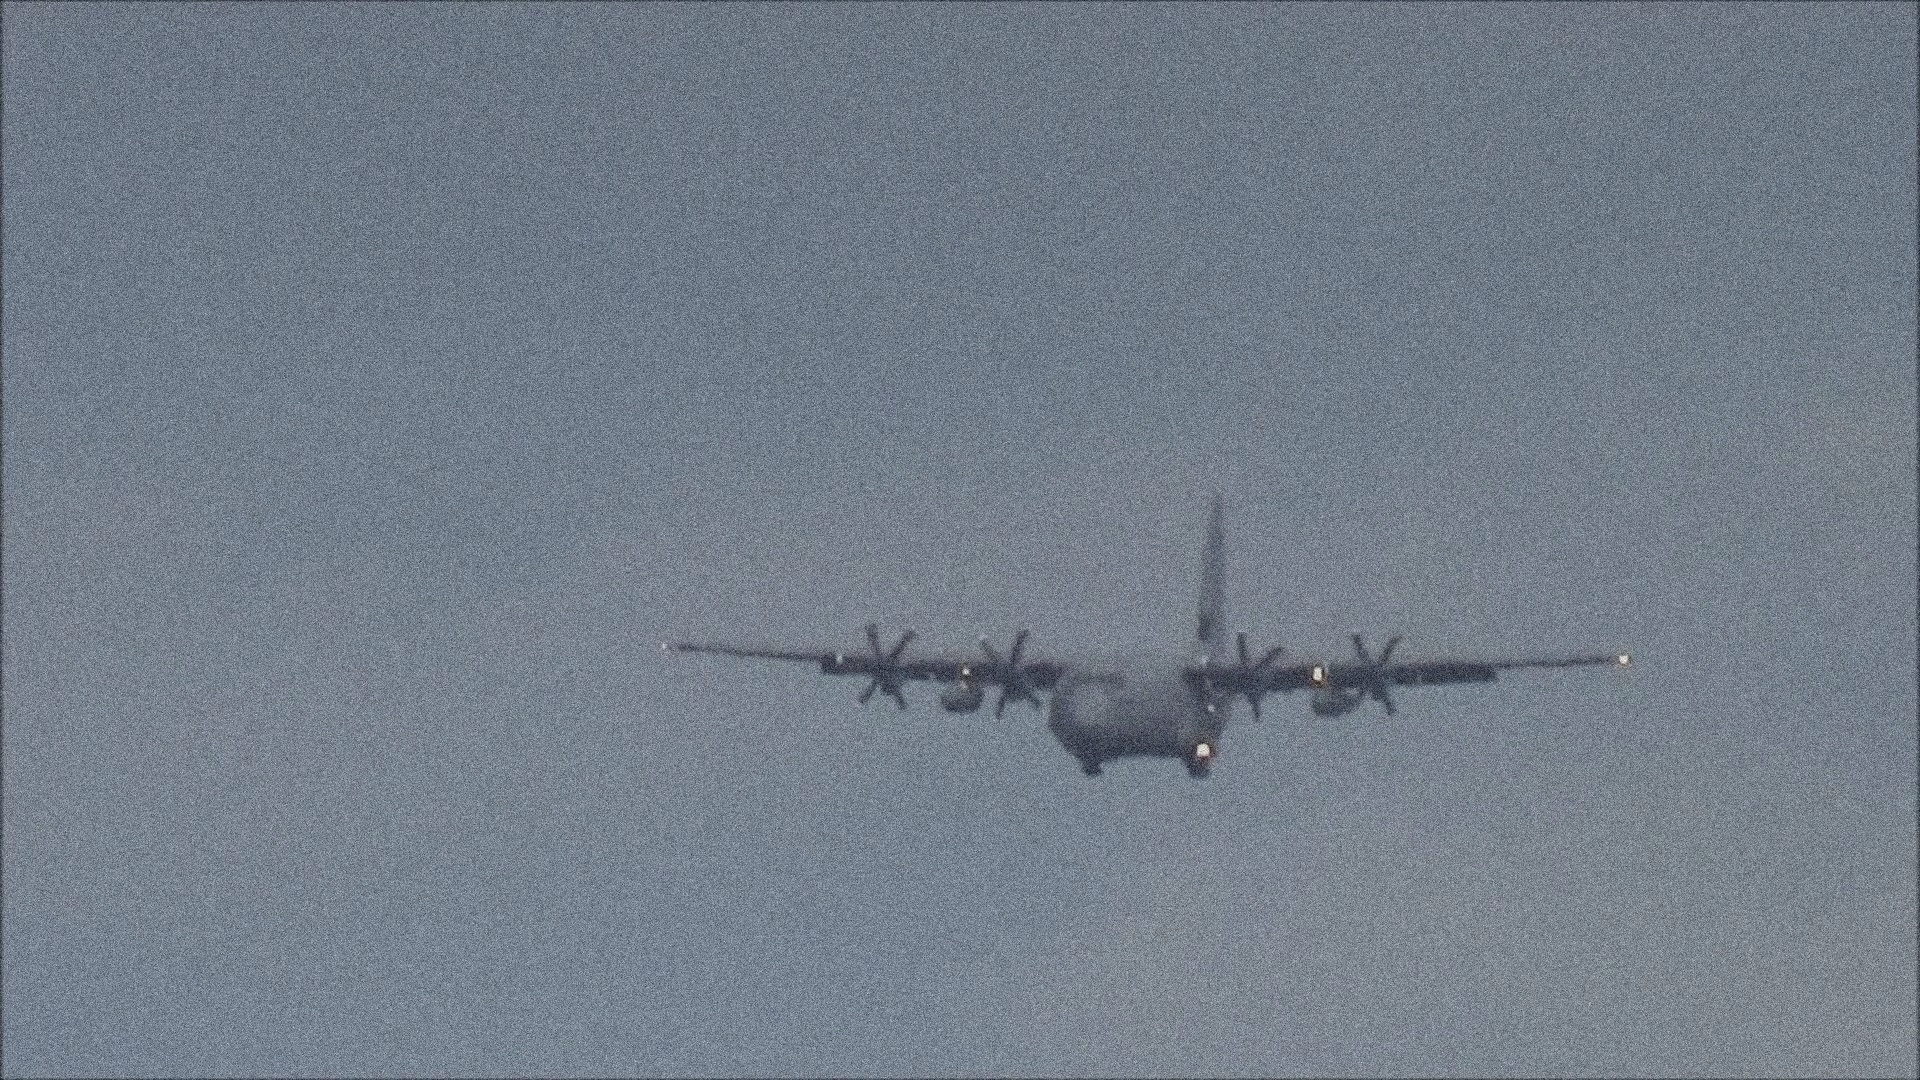Airplane: (686, 502, 1634, 775)
